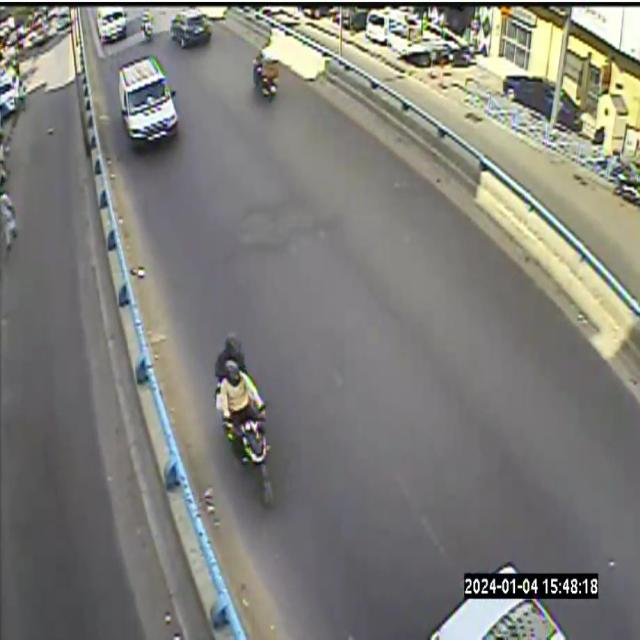car: (430, 595, 566, 639), (119, 57, 178, 149), (89, 2, 140, 53), (96, 7, 127, 43), (493, 558, 518, 579)
